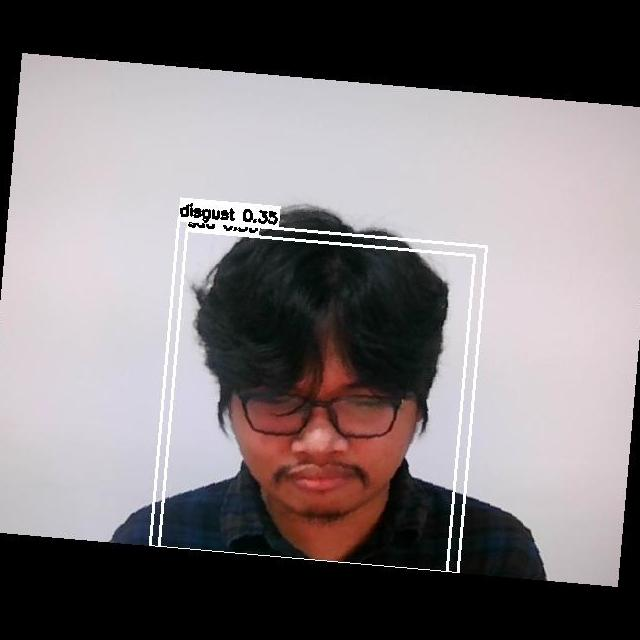Sad: (230, 350, 425, 515)
